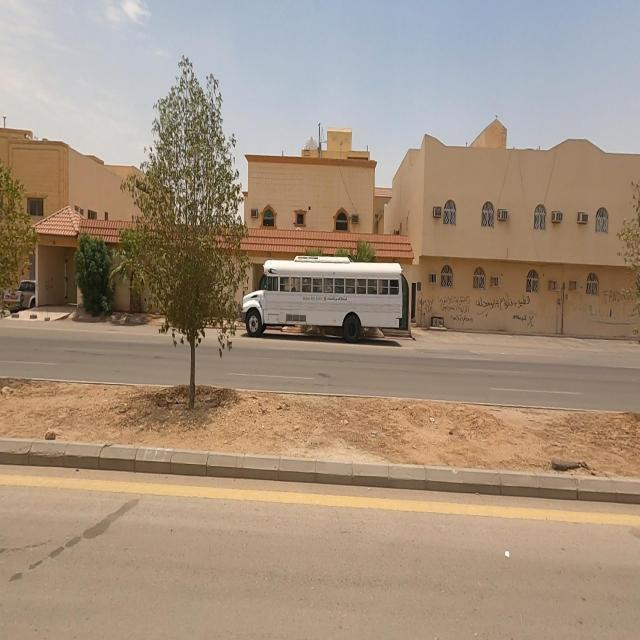debris: (391, 235, 506, 374), (460, 255, 574, 364), (524, 422, 616, 510), (575, 256, 640, 346)
